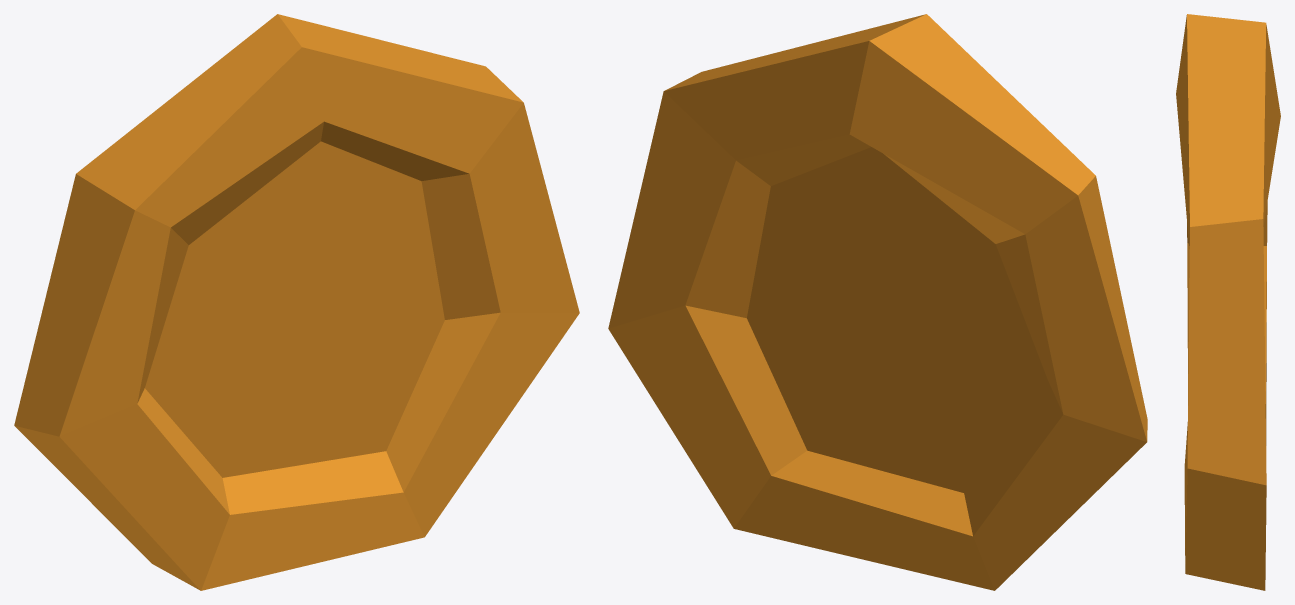
File: CoinV2.fbx
3 views of the same model, side by side, from view 1: azimuth 30°, elevation 25°; view 2: azimuth 150°, elevation 25°; view 3: azimuth 270°, elevation 25° (orthographic). The views are drawn at different scales.
Parts seen in each view (by area): view 1: Cylinder.001; view 2: Cylinder.001; view 3: Cylinder.001.
Boxes of the visible parts, <box> form: Cylinder.001: <box>14,14,579,590</box>; Cylinder.001: <box>608,14,1147,590</box>; Cylinder.001: <box>1176,14,1280,590</box>.
Bounding box in the file's own units: 194 × 182 × 34.23.
